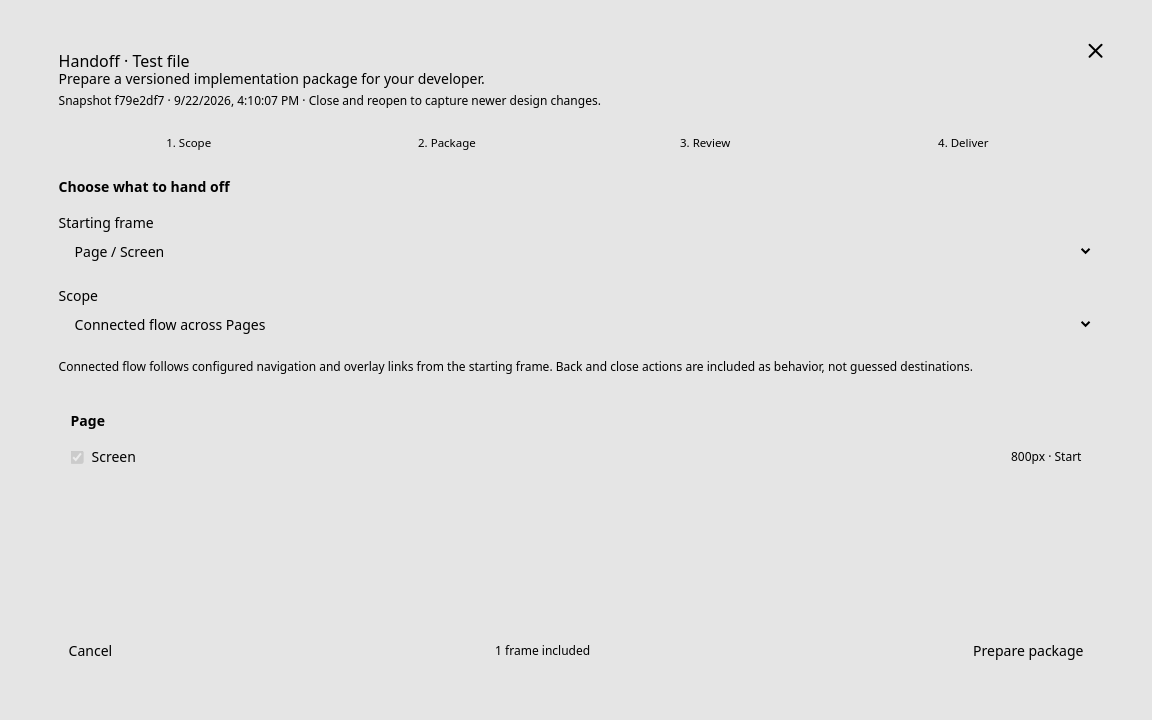
Scenario: requires review, resets it when scope changes, and never enables unconnected GitHub delivery
The width and height of the screenshot is (1152, 720).
Step 1. Click the radio button labelled "4. Deliver" → (963,143), box [835,127,1091,159]
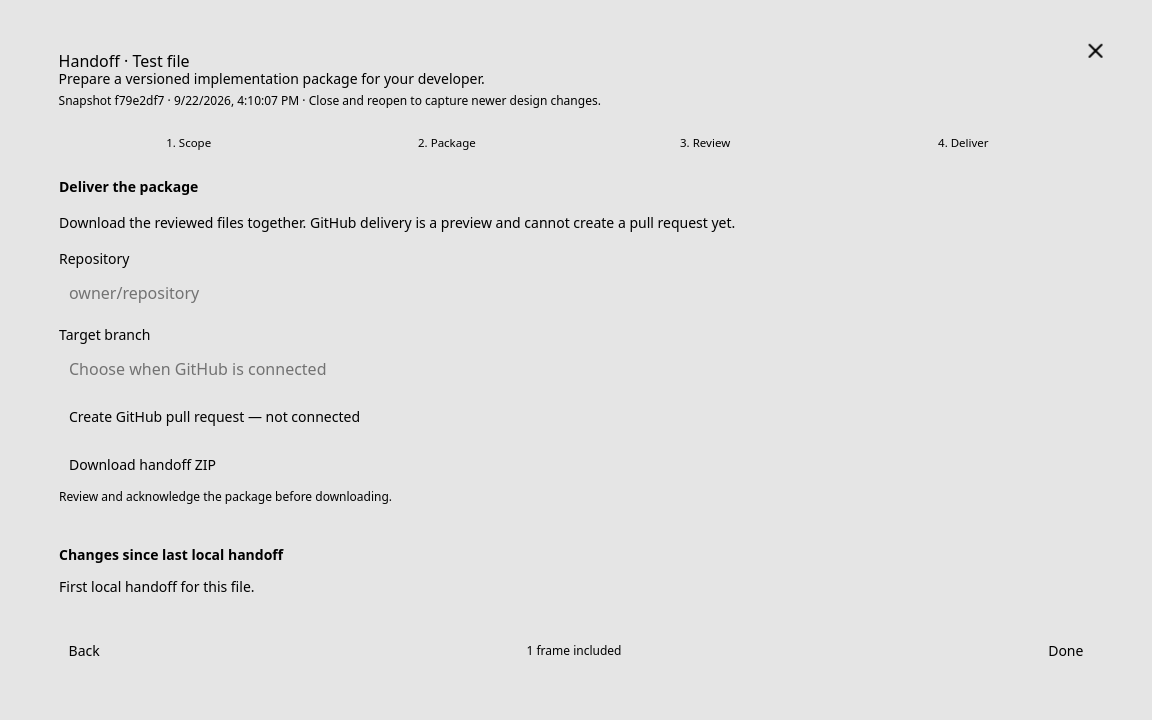
Check: the button "Download handoff ZIP" is disabled, box [59,449,226,481]
Check: the button "Create GitHub pull request — not connected" is disabled, box [59,401,370,433]
Step 2. Click the radio button labelled "3. Review" → (705,143), box [577,127,833,159]
(page scrolled)
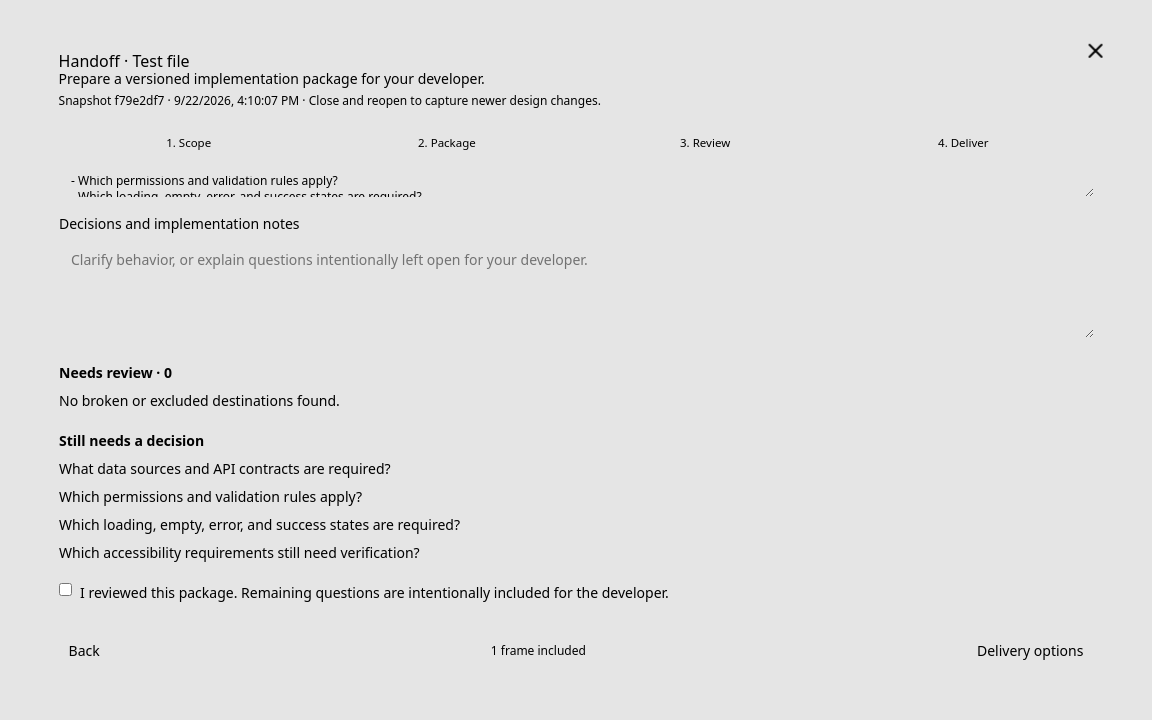
Step 3. Click the checkbox labelled "I reviewed this package" → (65,590), box [59,583,72,596]
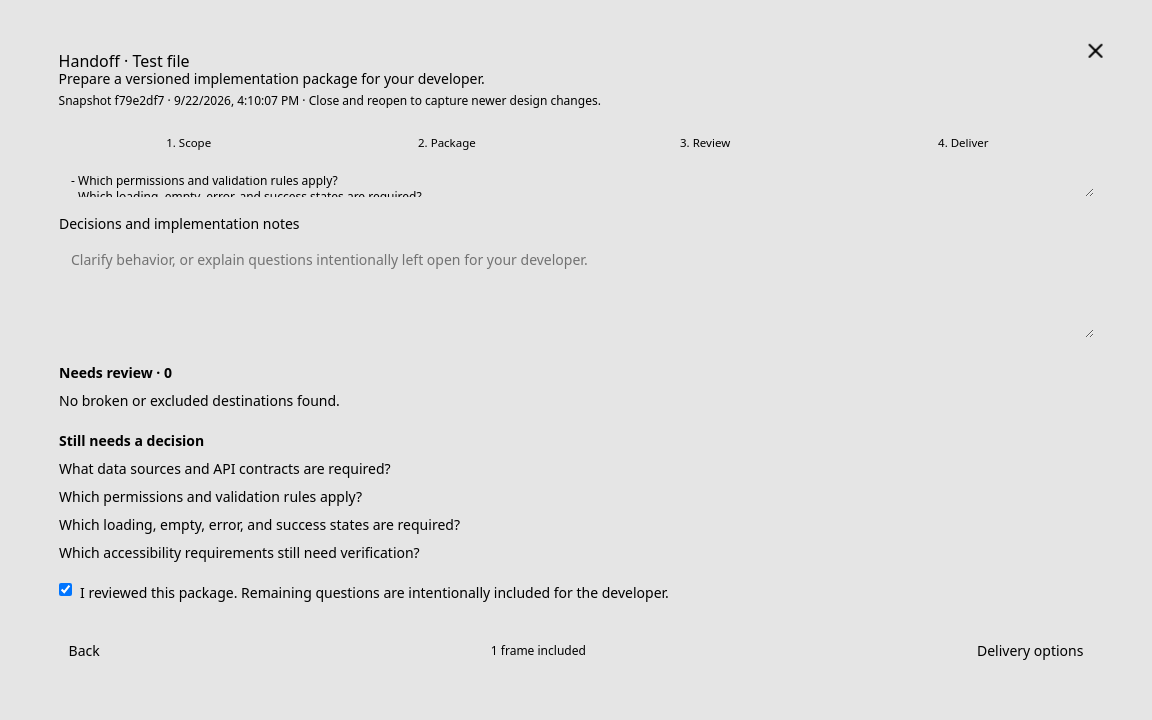
Step 4. Click the radio button labelled "4. Deliver" → (963,143), box [835,127,1091,159]
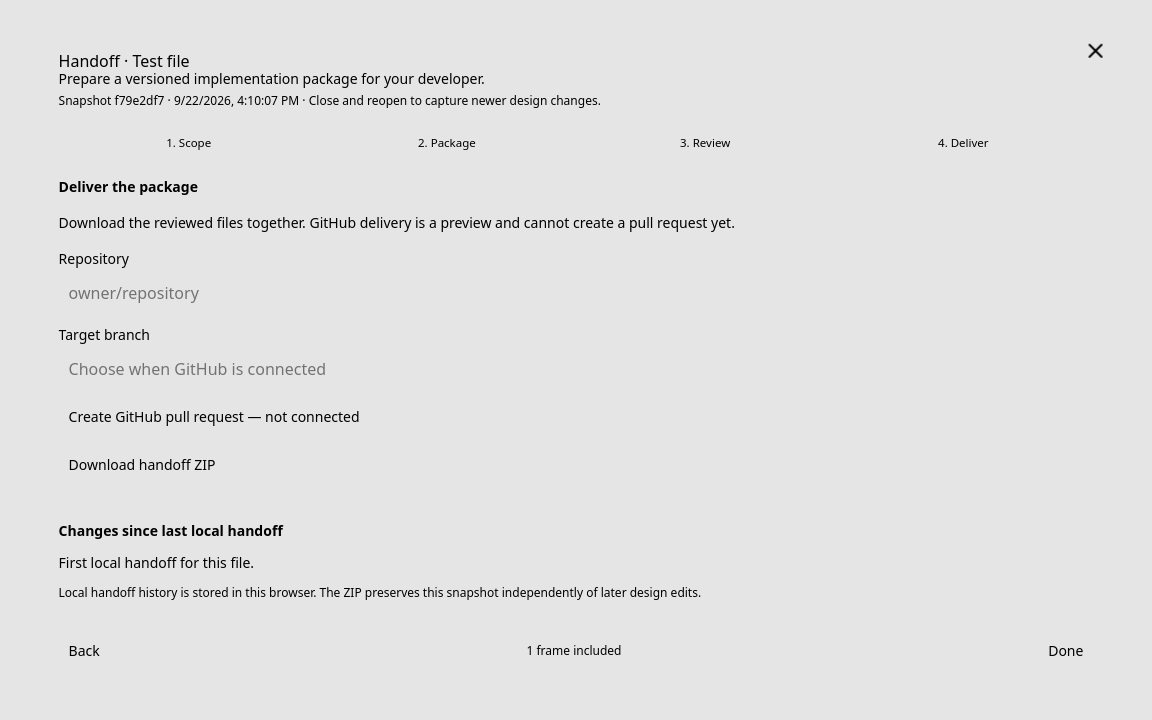
Check: the button "Download handoff ZIP" is enabled, box [59,449,226,481]
Step 5. Click the radio button labelled "1. Scope" → (189,143), box [61,127,317,159]
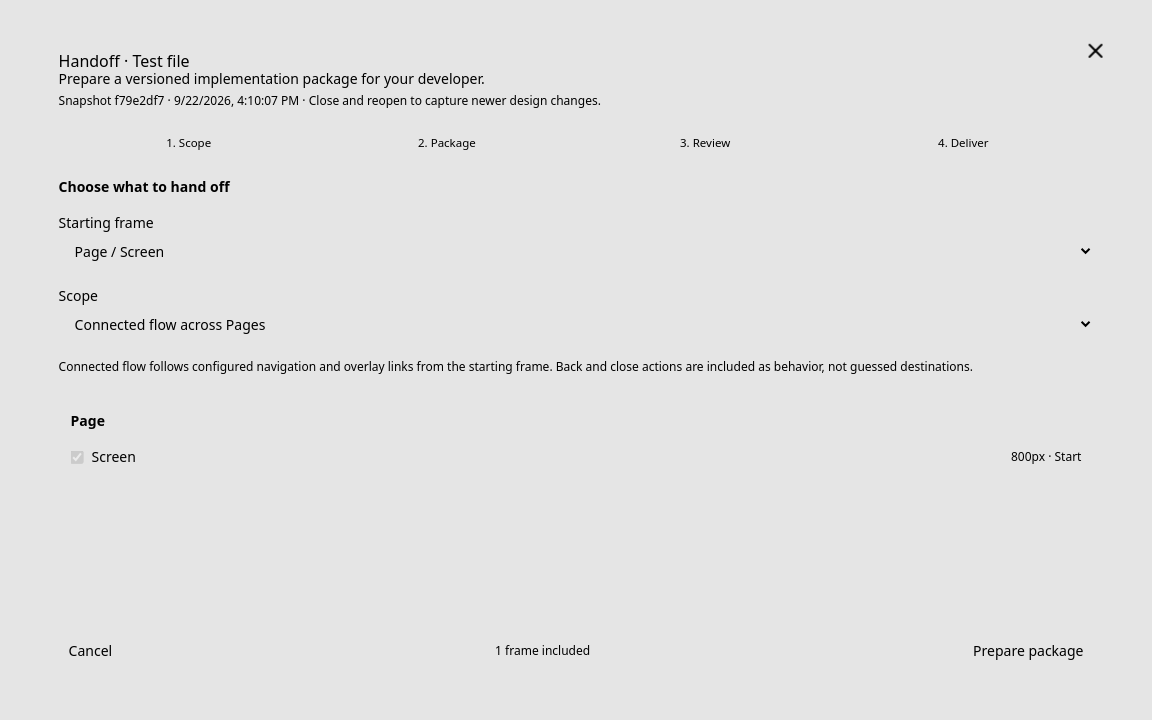
Step 6. Select "Entire file" in the dropdown named "Handoff scope" → (576,325), box [59,306,1094,343]
Step 7. Click the radio button labelled "4. Deliver" → (963,143), box [835,127,1091,159]
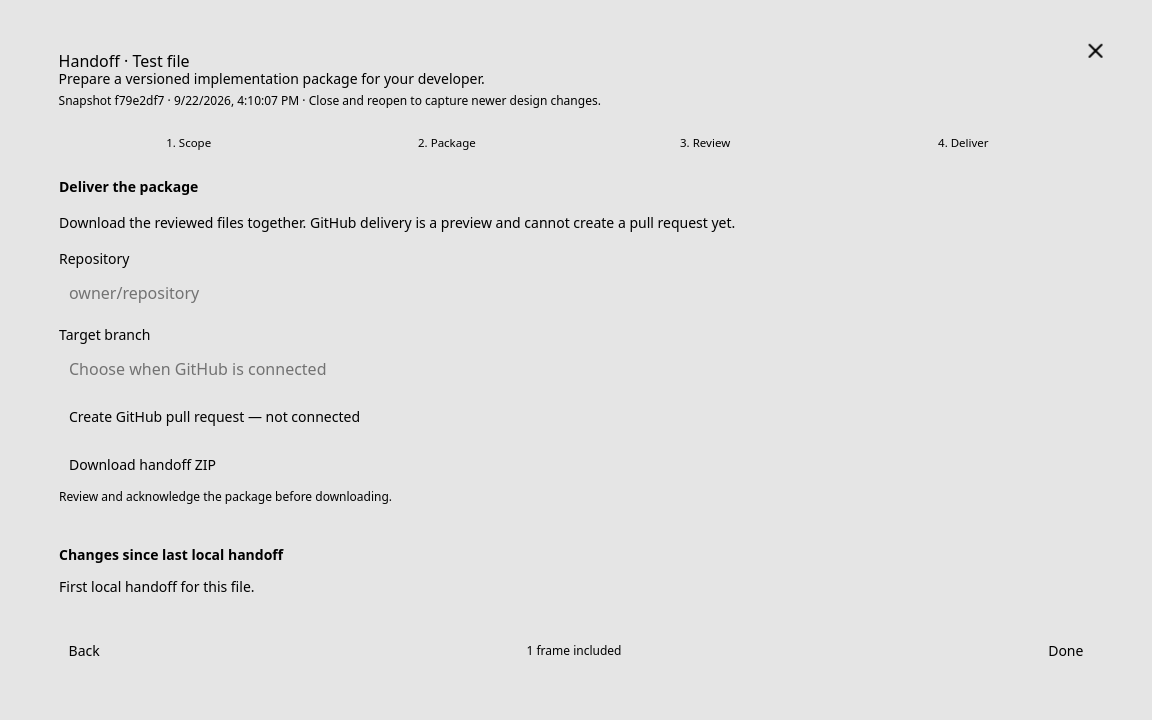
Check: the button "Download handoff ZIP" is disabled, box [59,449,226,481]
